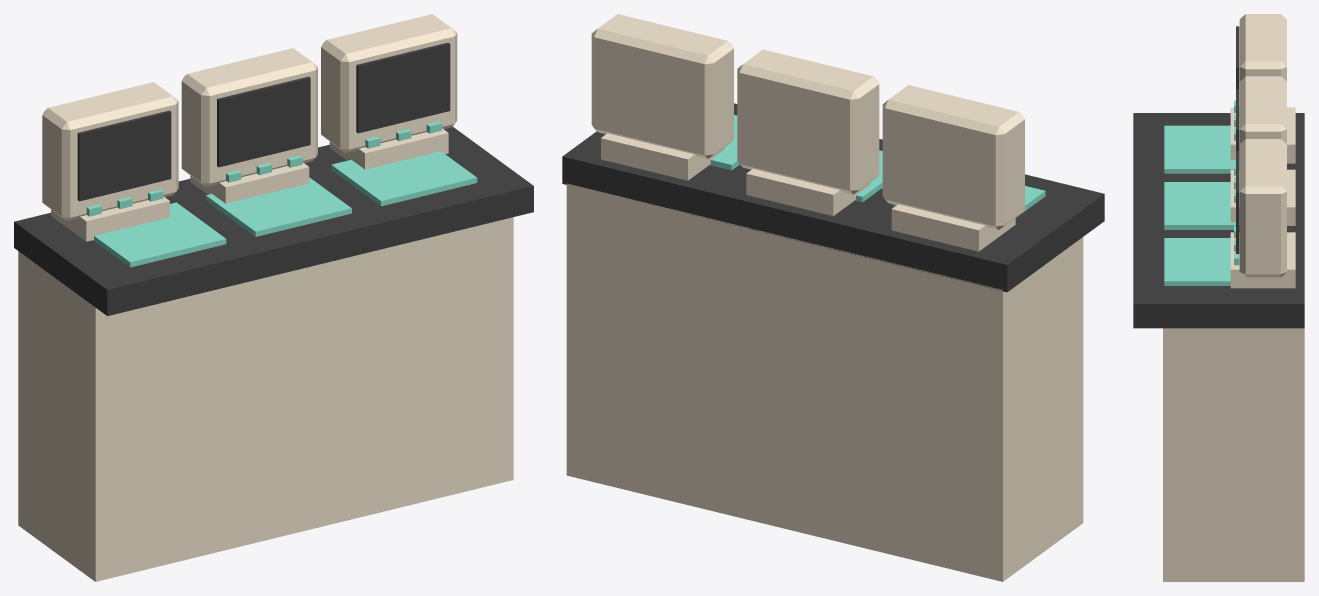
3 renders of one model, left to right at view 1: azimuth 30°, elevation 25°; view 2: azimuth 150°, elevation 25°; view 3: azimuth 270°, elevation 25°, orthographic. The views are drawn at different scales.
Parts seen in each view (by area): view 1: Console, Panel, Housing, Housing.001, Housing.002, Readout.003, Readout.005, Readout.004, Readout.002, Readout.001, Readout, Foot (+2 smaller); view 2: Console, Panel, Housing, Housing.001, Housing.002, Foot, Foot.001, Foot.002; view 3: Console, Panel, Housing.002, Readout, Readout.001, Readout.002, Housing, Housing.001, Foot.002, Foot.001, Foot, Readout.005 (+2 smaller).
Part boxes in pixels (bbox=[...]): Console: bbox=[18, 217, 513, 581]; Panel: bbox=[14, 126, 533, 315]; Housing: bbox=[42, 82, 178, 220]; Housing.001: bbox=[181, 48, 317, 186]; Housing.002: bbox=[321, 14, 457, 152]; Readout.003: bbox=[77, 110, 171, 201]; Readout.005: bbox=[356, 42, 450, 133]; Readout.004: bbox=[217, 76, 310, 167]; Readout.002: bbox=[331, 151, 477, 206]; Readout.001: bbox=[205, 177, 351, 236]; Readout: bbox=[93, 202, 226, 267]; Foot: bbox=[51, 196, 169, 241]; Console: bbox=[566, 183, 1083, 581]; Panel: bbox=[562, 103, 1104, 292]; Housing: bbox=[882, 85, 1024, 229]; Housing.001: bbox=[737, 49, 879, 194]; Housing.002: bbox=[591, 14, 733, 158]; Foot: bbox=[891, 204, 1015, 251]; Foot.001: bbox=[746, 169, 870, 215]; Foot.002: bbox=[601, 133, 724, 180]; Console: bbox=[1163, 328, 1304, 581]; Panel: bbox=[1133, 113, 1304, 328]; Housing.002: bbox=[1239, 139, 1286, 277]; Readout: bbox=[1164, 125, 1239, 173]; Readout.001: bbox=[1164, 182, 1239, 229]; Readout.002: bbox=[1164, 238, 1230, 285]; Housing: bbox=[1239, 14, 1286, 81]; Housing.001: bbox=[1239, 76, 1286, 143]; Foot.002: bbox=[1230, 232, 1295, 288]; Foot.001: bbox=[1230, 169, 1295, 225]; Foot: bbox=[1230, 107, 1295, 163]; Readout.005: bbox=[1236, 151, 1239, 253].
Size of the model in its own units: 1.53 by 1.45 by 0.58.
Materials: 1 (1 with a texture image).
